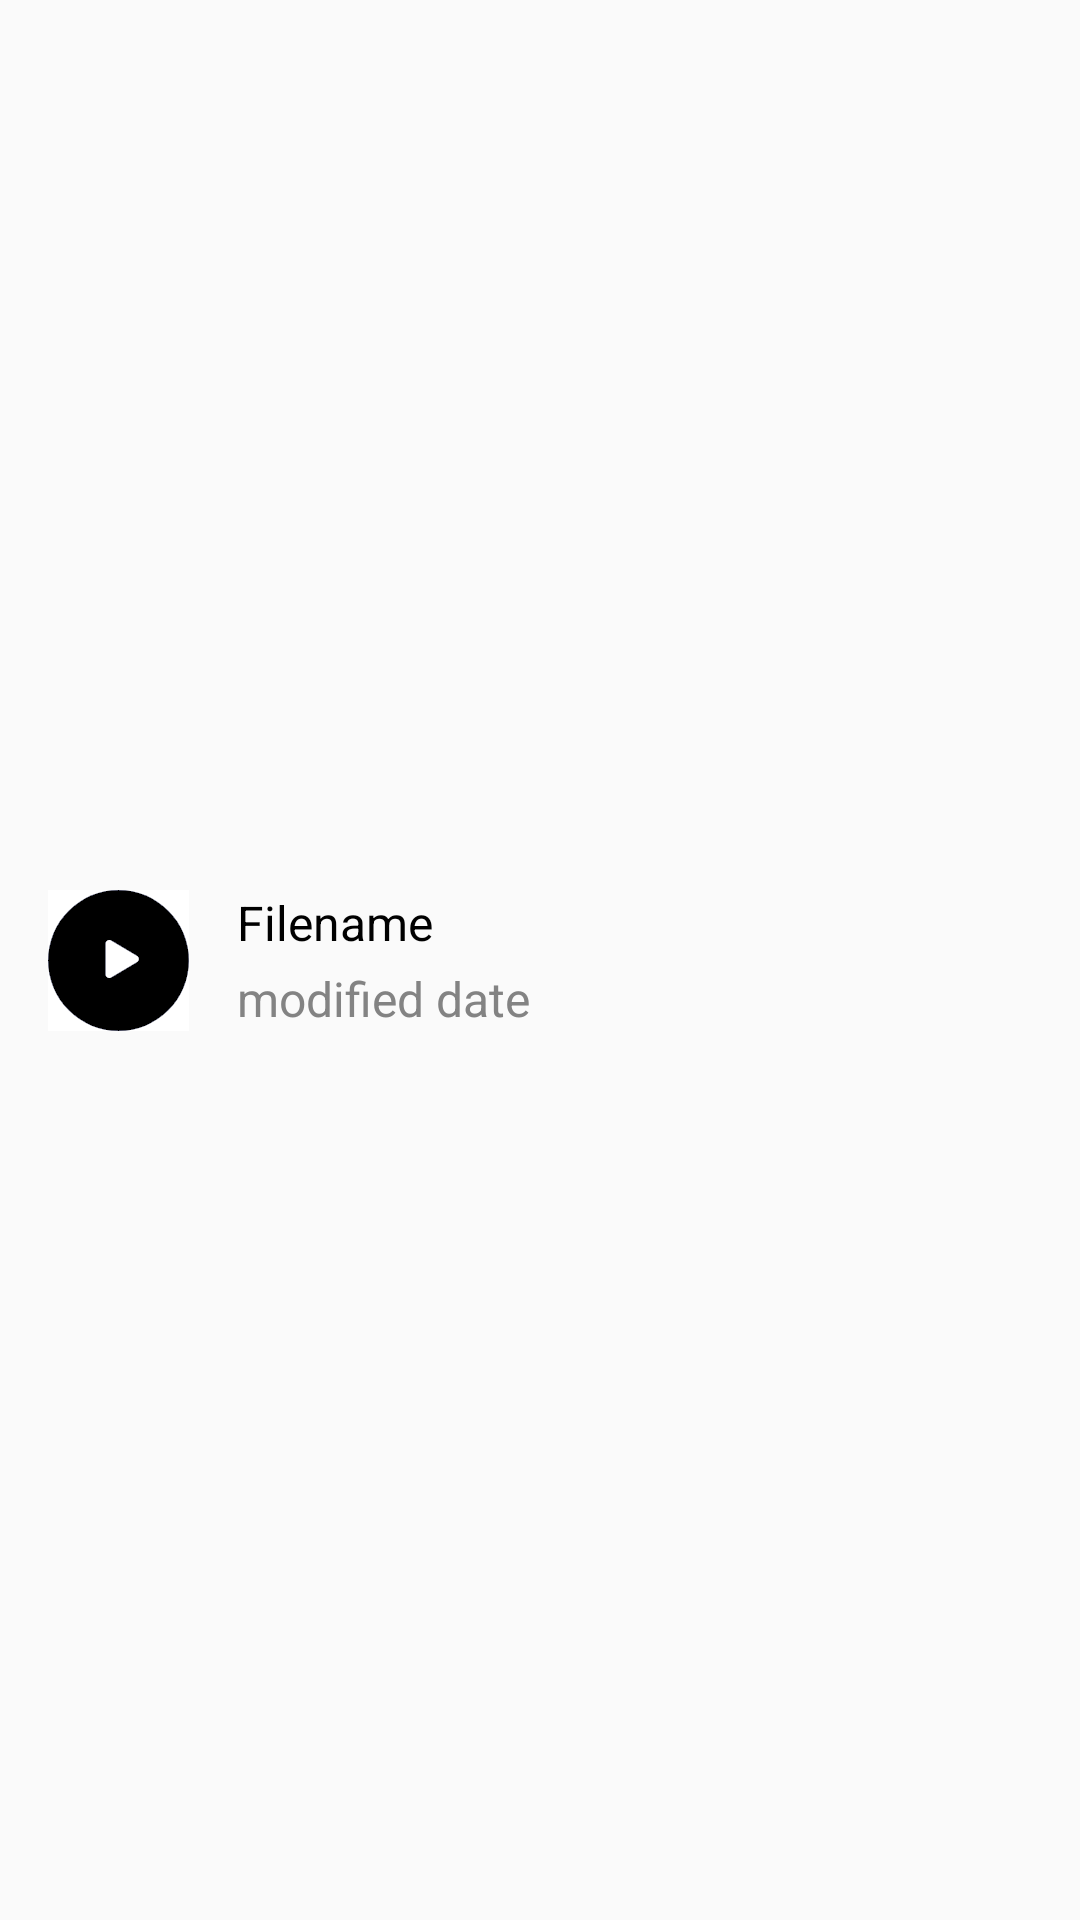

Icons on this 1080 × 1920 Android screen, each with its box as [x1=x1, y1=y1, x2=x2, y2=y2]:
list play: [x1=48, y1=890, x2=189, y2=1031]
